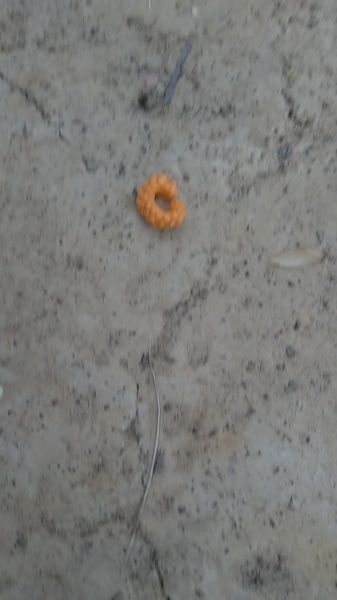eggs: (132, 164, 197, 244)
